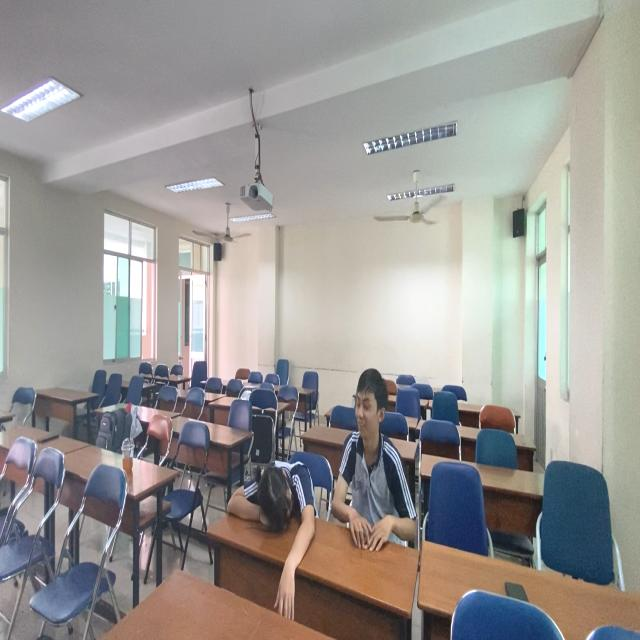sleep: (216, 450, 322, 632)
